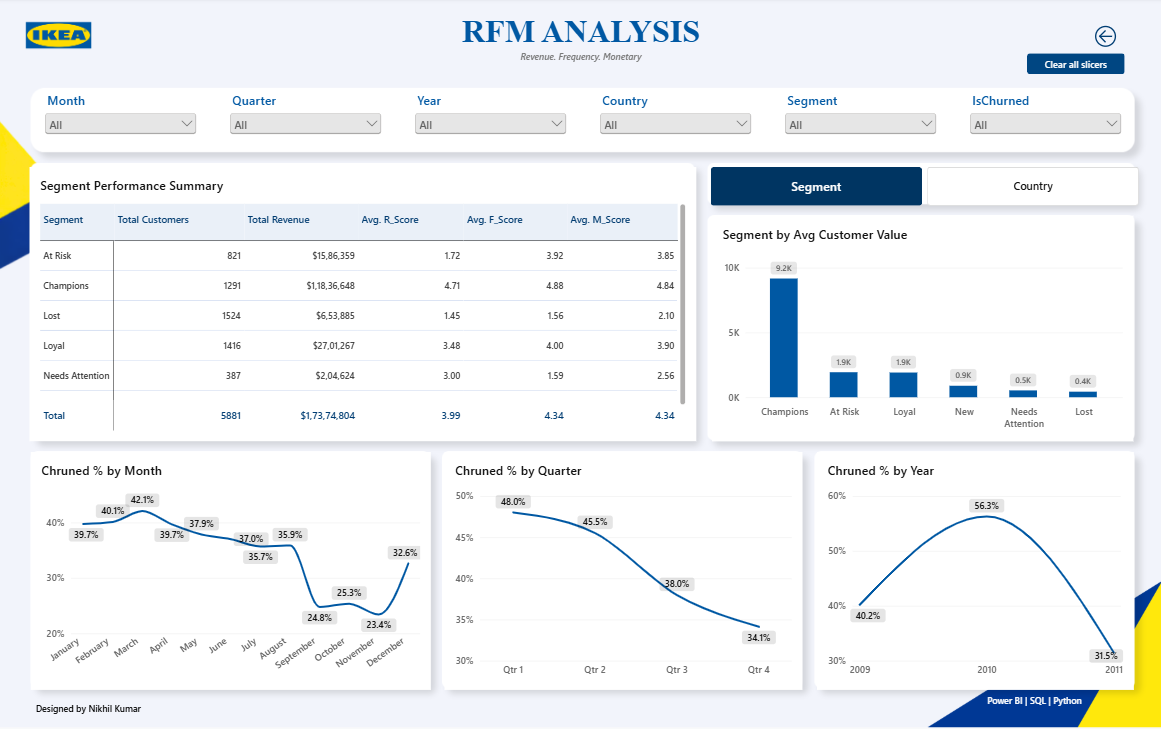

This screenshot's page, from the dashboard's own definition file:
{"tool":"powerbi","page":{"name":"RFM Analysis","canvas":[1750,1100],"ordinal":1},"visuals":[{"type":"slicer","fields":{"Values":["Sheet1.InvoiceDate.Variation.Date Hierarchy.Month"]},"box":[67.5,142.5,236.2,80.6],"z":0},{"type":"slicer","fields":{"Values":["Sheet1.InvoiceDate.Variation.Date Hierarchy.Quarter"]},"box":[345,142.6,236.2,80.6],"z":1000},{"type":"slicer","fields":{"Values":["Sheet1.InvoiceDate.Variation.Date Hierarchy.Year"]},"box":[622.6,142.6,236.2,80.6],"z":2000},{"type":"lineChart","fields":{"Category":["Sheet1.InvoiceDate.Variation.Date Hierarchy.Month"],"Y":["Sheet1.Chruned %"]},"box":[50,681.7,600,356.7],"z":2000,"group":"g1"},{"type":"slicer","fields":{"Values":["Sheet1.Country"]},"box":[900.1,142.6,236.2,80.6],"z":3000},{"type":"lineChart","fields":{"Category":["Sheet1.InvoiceDate.Variation.Date Hierarchy.Quarter"],"Y":["Sheet1.Chruned %"]},"box":[670.8,681.7,536.7,356.7],"z":3000,"group":"g1"},{"type":"slicer","fields":{"Values":["Sheet1.Segment"]},"box":[1177.7,142.6,236.2,80.6],"z":4000},{"type":"lineChart","fields":{"Category":["Sheet1.InvoiceDate.Variation.Date Hierarchy.Year"],"Y":["Sheet1.Chruned %"]},"box":[1228.3,681.7,475,356.7],"z":4000,"group":"g1"},{"type":"slicer","fields":{"Values":["Sheet1.IsChurned"]},"box":[1455.2,142.6,236.2,80.6],"z":5000},{"type":"group","id":"g1","title":"Revenue","box":[50,681.7,1653.3,356.7],"z":6000},{"type":"bookmarkNavigator","box":[1069.8,255.1,643.3,59],"z":8000},{"type":"textbox","box":[57.6,1057.5,513,42.5],"z":9000},{"type":"image","box":[0,15.1,185.2,85],"z":10000},{"type":"textbox","box":[49.4,24.7,1654.1,118],"z":11000},{"type":"textbox","box":[1444.3,1046.5,224.9,32.9],"z":12000},{"type":"actionButton","box":[1613,37,100,40],"z":13000},{"type":"actionButton","box":[1544.4,83.7,146.8,31.5],"z":14000},{"type":"pivotTable","title":"Segment Performance Summary","fields":{"Rows":["Sheet1.Segment"],"Values":["Sheet1.Total Customers","Sheet1.Total Revenue","Avg(Sheet1.R_Score)","Avg(Sheet1.F_Score)","Avg(Sheet1.M_Score)"]},"box":[48,255.1,999.9,411.5],"z":15000},{"type":"columnChart","title":"Segment by Avg Customer Value","fields":{"Category":["Sheet1.Segment"],"Y":["Sheet1.Avg Customer Value"]},"box":[1072.6,327.8,632.3,338.8],"z":15001}]}

Visuals, with their boxes in screenshot pixels (x1, y1, x2, y2), scaled from the page's 1750x1100 canvas onto the 1161x729 screenshot:
slicer - Sheet1.InvoiceDate.Variation.Date Hierarchy.Month: box=[45, 94, 201, 148]
slicer - Sheet1.InvoiceDate.Variation.Date Hierarchy.Quarter: box=[229, 95, 386, 148]
slicer - Sheet1.InvoiceDate.Variation.Date Hierarchy.Year: box=[413, 95, 570, 148]
lineChart - Sheet1.InvoiceDate.Variation.Date Hierarchy.Month x Sheet1.Chruned %: box=[33, 452, 431, 688]
slicer - Sheet1.Country: box=[597, 95, 754, 148]
lineChart - Sheet1.InvoiceDate.Variation.Date Hierarchy.Quarter x Sheet1.Chruned %: box=[445, 452, 801, 688]
slicer - Sheet1.Segment: box=[781, 95, 938, 148]
lineChart - Sheet1.InvoiceDate.Variation.Date Hierarchy.Year x Sheet1.Chruned %: box=[815, 452, 1130, 688]
slicer - Sheet1.IsChurned: box=[965, 95, 1122, 148]
"Revenue" group: box=[33, 452, 1130, 688]
bookmarkNavigator: box=[710, 169, 1137, 208]
textbox: box=[38, 701, 379, 728]
image: box=[0, 10, 123, 66]
textbox: box=[33, 16, 1130, 95]
textbox: box=[958, 694, 1107, 715]
actionButton: box=[1070, 25, 1136, 51]
actionButton: box=[1025, 55, 1122, 76]
"Segment Performance Summary" pivotTable: box=[32, 169, 695, 442]
"Segment by Avg Customer Value" columnChart: box=[712, 217, 1131, 442]
